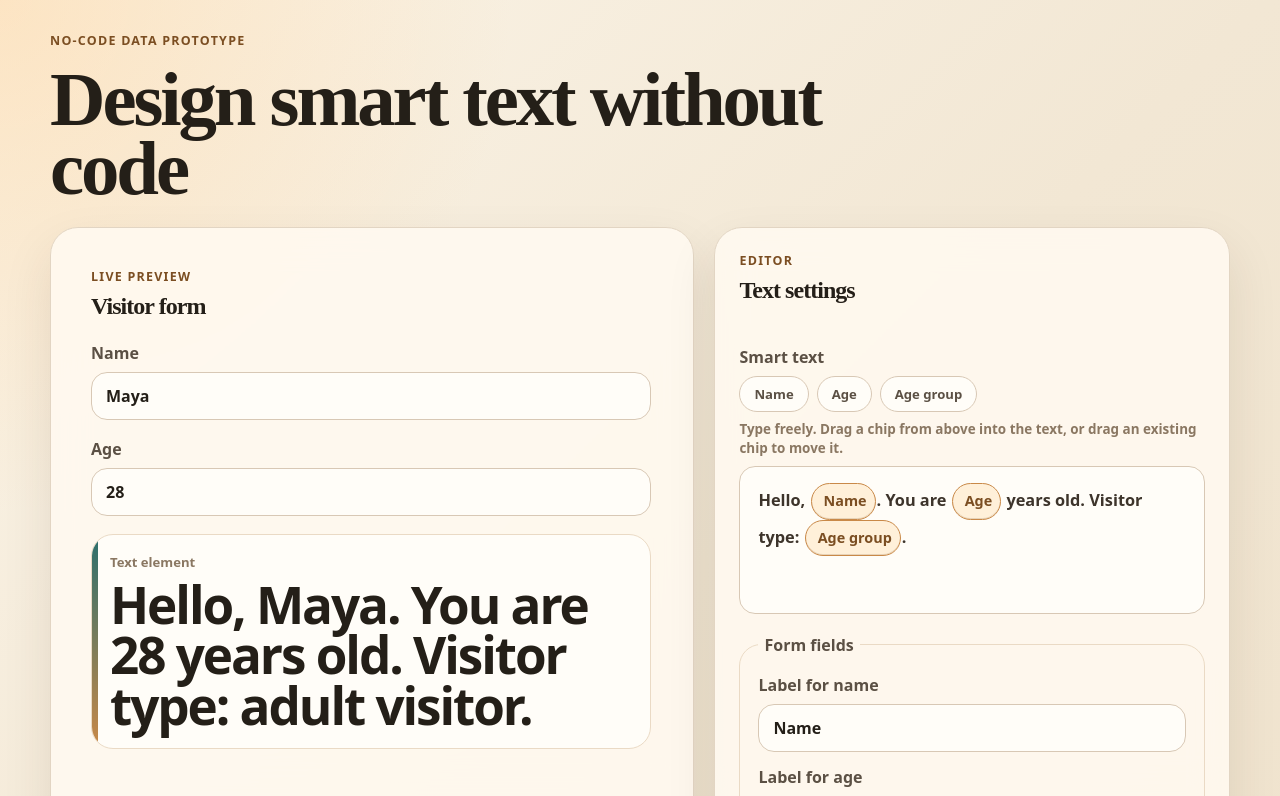
App › updates the smart text preview when answers change
This screenshot has width=1280, height=796.
Replace the text in the field labelled "Name" with "Nora" at x=371, y=396, box [91, 372, 651, 420]
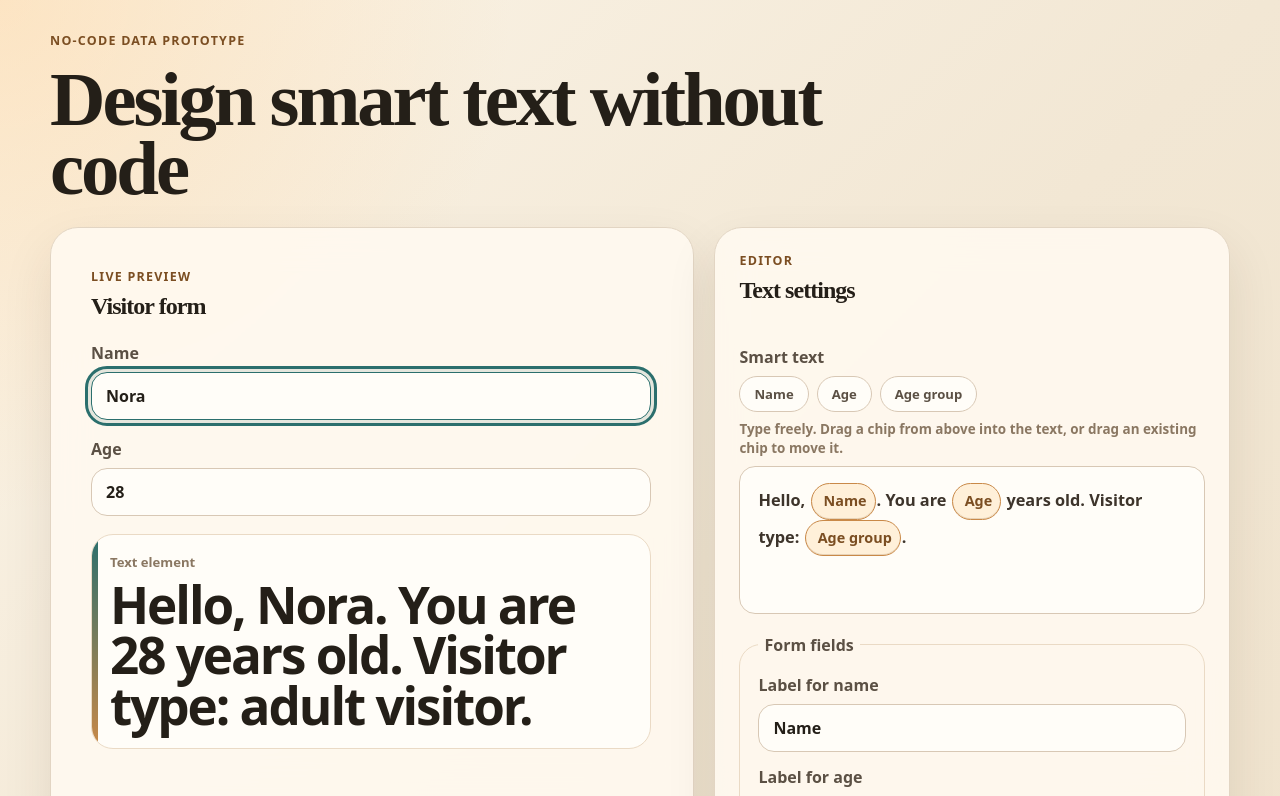
Replace the text in the number field labelled "Age" with "34" at x=371, y=492, box [91, 468, 651, 516]
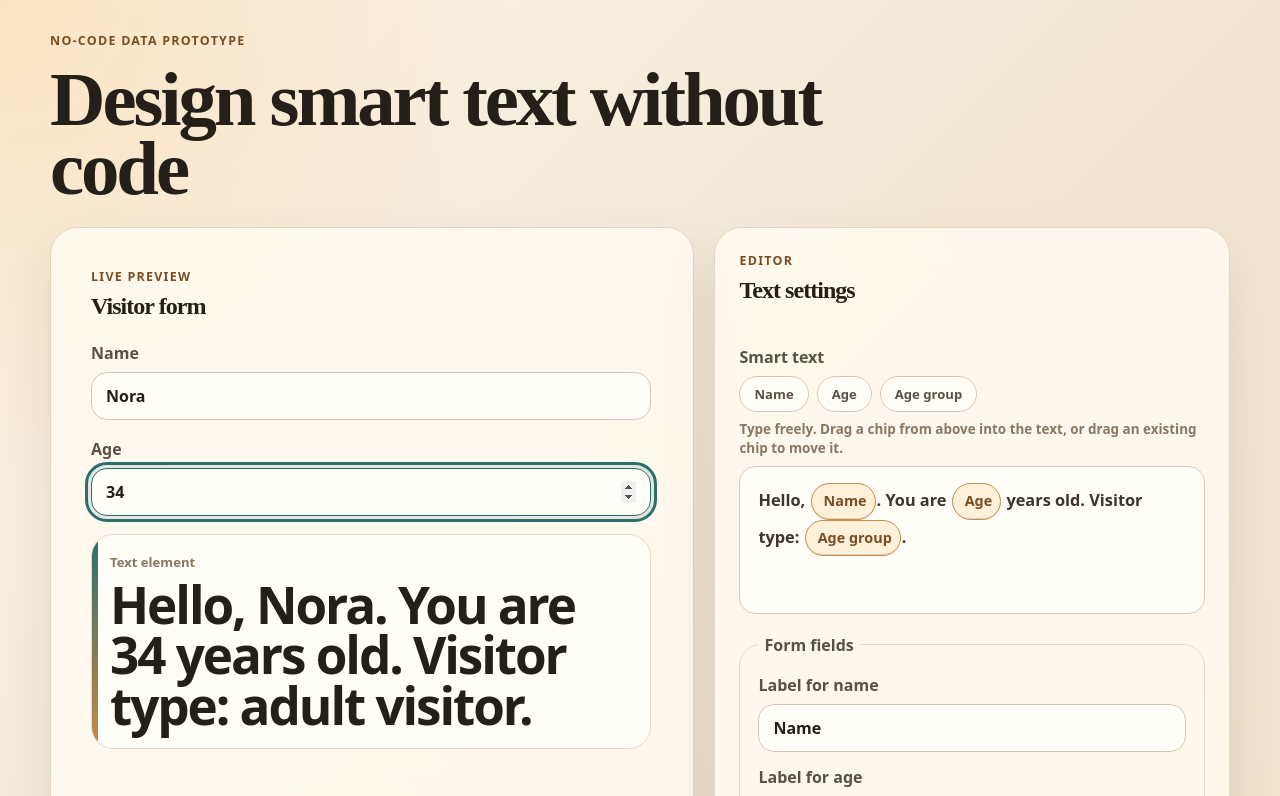
Check: the text "Hello, Nora. You are 34 years old. Visitor type: adult visitor." is shown, box [110, 579, 632, 730]
